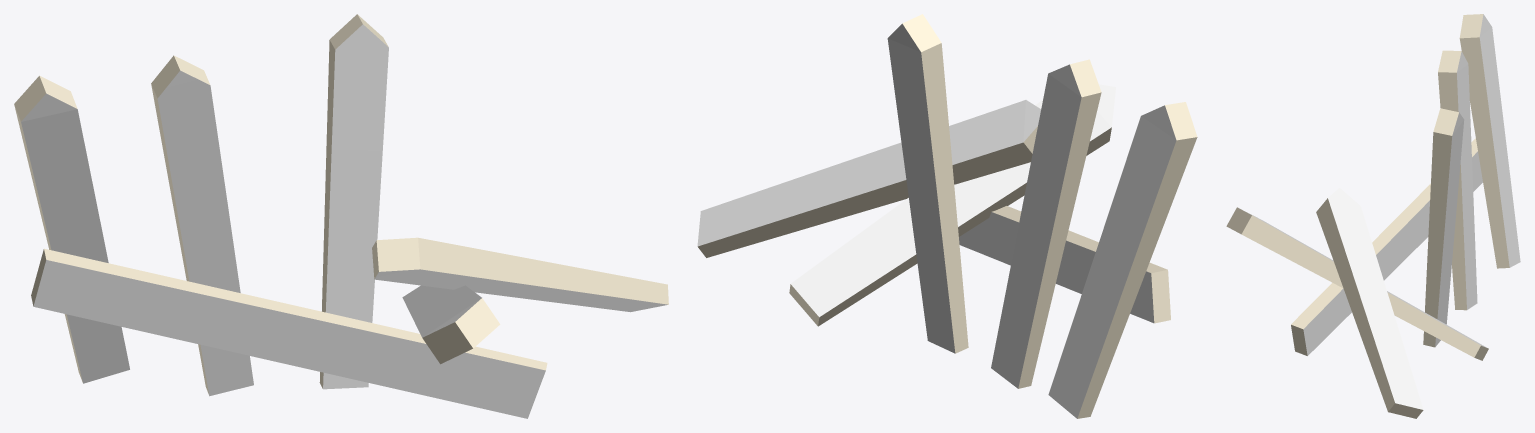
Rendered from HWN20_SmallBrokenFence.glb.
3 renders of one model, left to right at view 1: azimuth 30°, elevation 25°; view 2: azimuth 150°, elevation 25°; view 3: azimuth 270°, elevation 25°, orthographic. The views are drawn at different scales.
Visible parts, largest first — view 1: HWN20_SmallBrokenFence; view 2: HWN20_SmallBrokenFence; view 3: HWN20_SmallBrokenFence.
Part boxes in pixels (x1,y1,x2,y2): HWN20_SmallBrokenFence: (14, 14, 668, 418); HWN20_SmallBrokenFence: (697, 14, 1197, 418); HWN20_SmallBrokenFence: (1226, 14, 1520, 418).
Size of what is drawn, in the model's own units: 0.81 by 0.4637 by 0.5157.
1 material, 1 textured.
